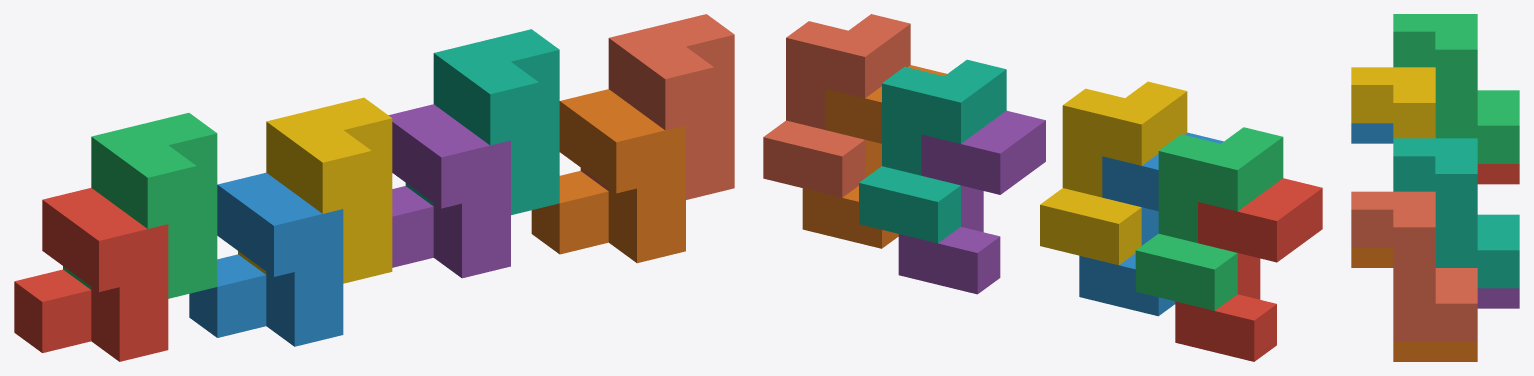
Rendered from tiling.obj.
3 renders of one model, left to right at view 1: azimuth 30°, elevation 25°; view 2: azimuth 150°, elevation 25°; view 3: azimuth 270°, elevation 25°, orthographic. The views are drawn at different scales.
Visible parts, largest first — view 1: copy_1_domain_1, copy_1_domain_2, copy_1_domain_6, copy_1_domain_5, copy_1_domain_3, copy_1_domain_4, copy_1_domain_7, copy_1_domain_8; view 2: copy_1_domain_3, copy_1_domain_4, copy_1_domain_7, copy_1_domain_8, copy_1_domain_1, copy_1_domain_5, copy_1_domain_2, copy_1_domain_6; view 3: copy_1_domain_8, copy_1_domain_7, copy_1_domain_3, copy_1_domain_4, copy_1_domain_6, copy_1_domain_2, copy_1_domain_5, copy_1_domain_1.
Boxes of the visible parts, x1,y1,x2,y2 form: copy_1_domain_1: (14,188,168,361); copy_1_domain_2: (189,172,343,346); copy_1_domain_6: (531,89,685,263); copy_1_domain_5: (388,104,510,278); copy_1_domain_3: (63,113,217,298); copy_1_domain_4: (238,97,392,283); copy_1_domain_7: (405,29,559,215); copy_1_domain_8: (580,14,734,199); copy_1_domain_3: (1135,127,1283,310); copy_1_domain_4: (1040,81,1187,265); copy_1_domain_7: (859,59,1006,243); copy_1_domain_8: (763,14,910,197); copy_1_domain_1: (1175,178,1322,361); copy_1_domain_5: (898,110,1045,294); copy_1_domain_2: (1079,132,1223,316); copy_1_domain_6: (802,65,946,248); copy_1_domain_8: (1351,191,1477,341); copy_1_domain_7: (1393,138,1519,288); copy_1_domain_3: (1393,14,1519,163); copy_1_domain_4: (1351,67,1435,138); copy_1_domain_6: (1351,247,1477,361); copy_1_domain_2: (1351,123,1393,143); copy_1_domain_5: (1477,288,1519,308); copy_1_domain_1: (1477,164,1519,184).
Size of the model in its own units: 13 by 4 by 4.
